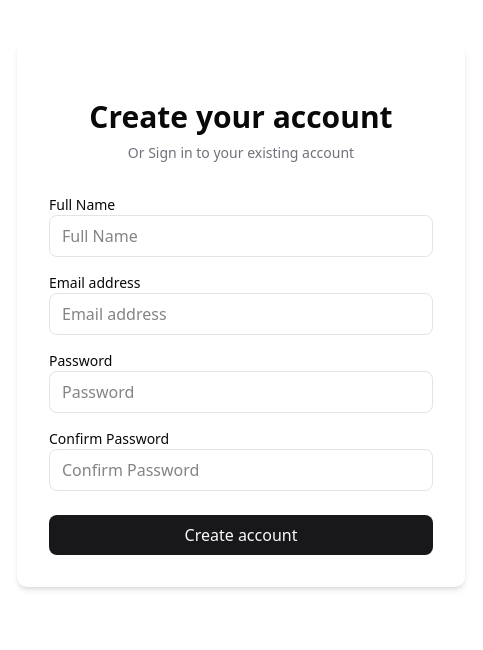
Test: Signup Component › validates password length
Note: Fill form with short password
Type "Test User" into the field labelled "Full Name" at (241, 236), box [49,215,433,257]
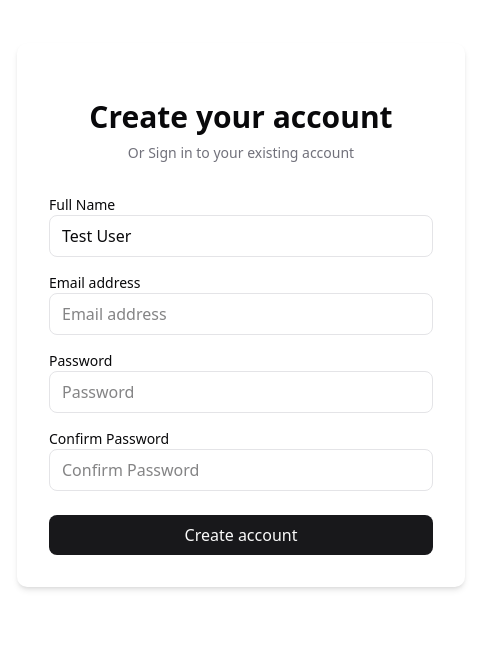
Type "test@example.com" into the field with placeholder "Email address" at (241, 314), box [49,293,433,335]
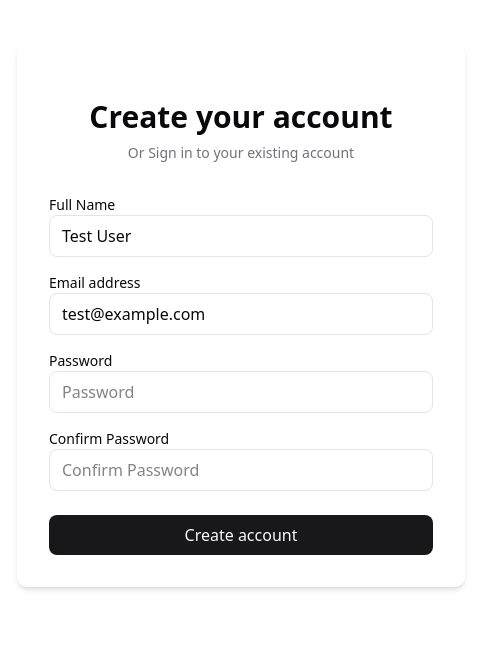
Type "12345" into the password field labelled "Password" at (241, 392), box [49,371,433,413]
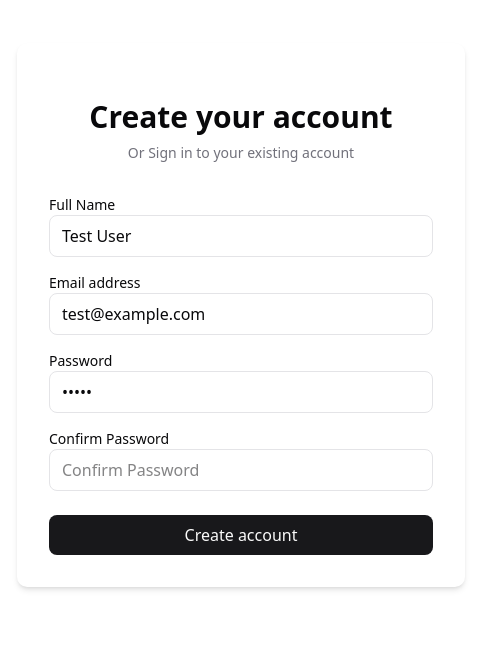
Type "12345" into the password field labelled "Confirm Password" at (241, 470), box [49,449,433,491]
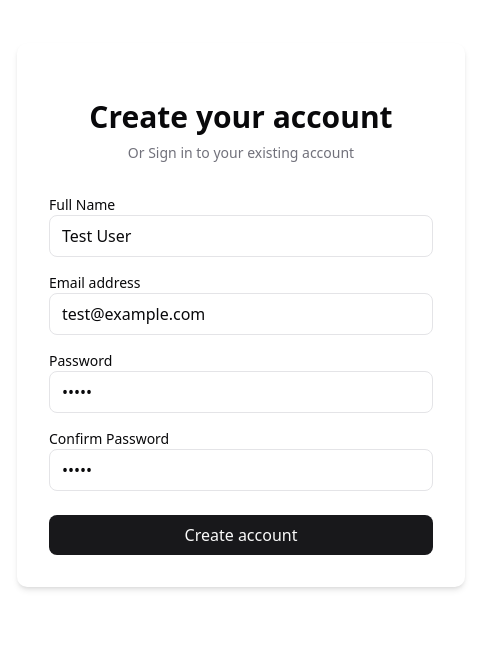
Note: Submit form
Click the button "Create account" at (241, 535), box [49,515,433,555]
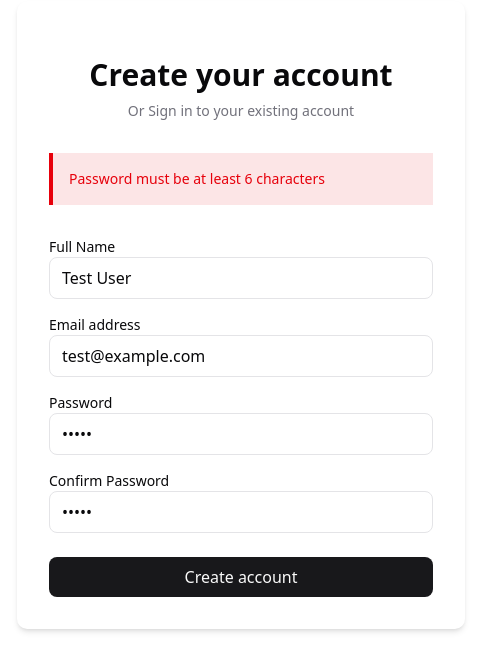
Expected: the text "Password must be at least 6 characters" is shown, [69,169,325,188]
